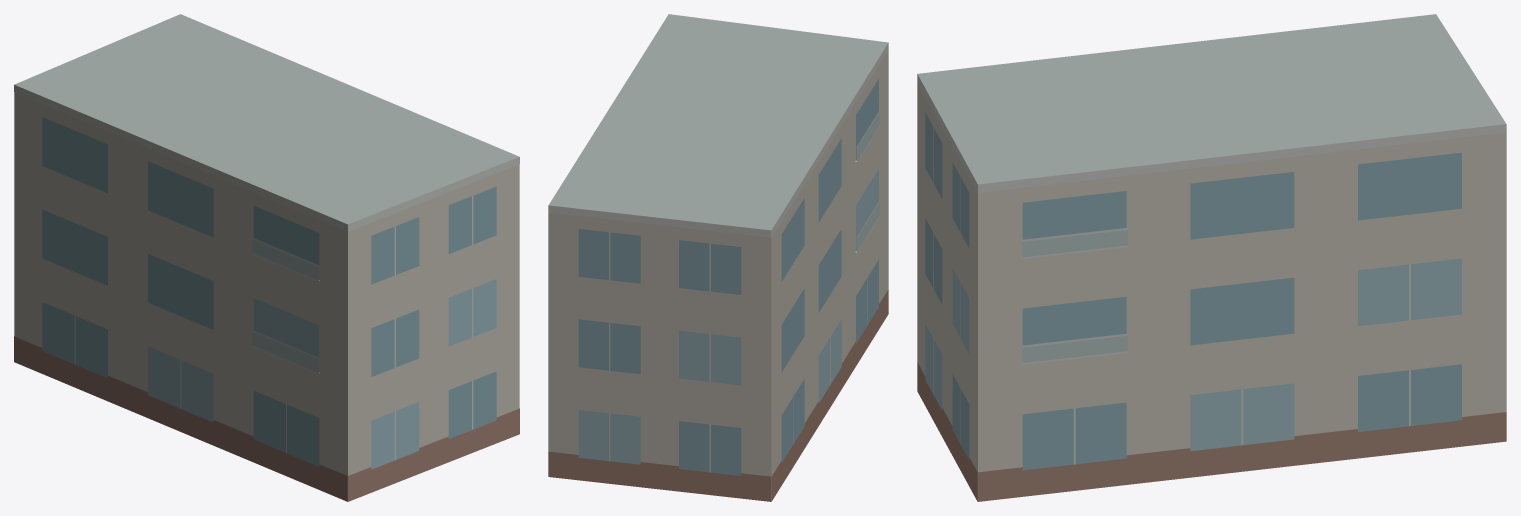
Rendered from survey-upis-32569390.glb.
3 views of the same model, side by side, from view 1: azimuth 30°, elevation 25°; view 2: azimuth 150°, elevation 25°; view 3: azimuth 270°, elevation 25° (orthographic). The views are drawn at different scales.
Parts seen in each view (by area): view 1: survey-upis-32569390.tmp; view 2: survey-upis-32569390.tmp; view 3: survey-upis-32569390.tmp.
Boxes of the visible parts, box(x1,y1,x2,y2) form: survey-upis-32569390.tmp: box(14, 14, 519, 501); survey-upis-32569390.tmp: box(548, 14, 888, 501); survey-upis-32569390.tmp: box(917, 14, 1506, 501).
Size of the model in its own units: 10.55 by 9.15 by 15.4.
